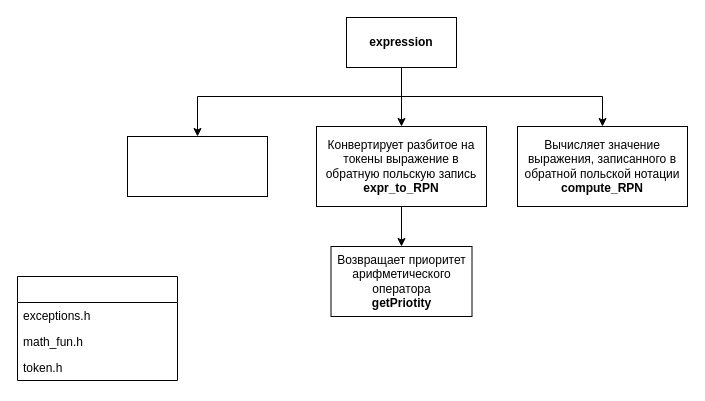
This 705x401 diagram has some shape labels left out. Each missing label, with the box of its shape:
Определения типов:: (16, 276, 178, 380)
Разбивает строку на лексические токены tokenize: (126, 136, 268, 196)
